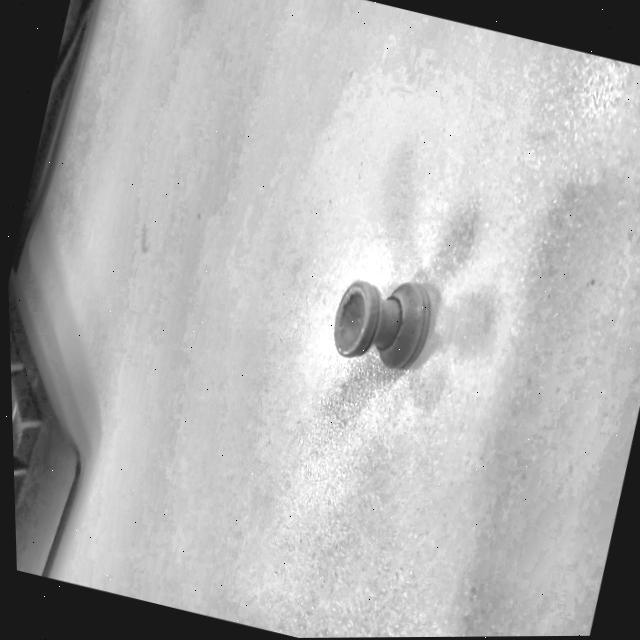white-rook: (298, 208, 476, 430)
